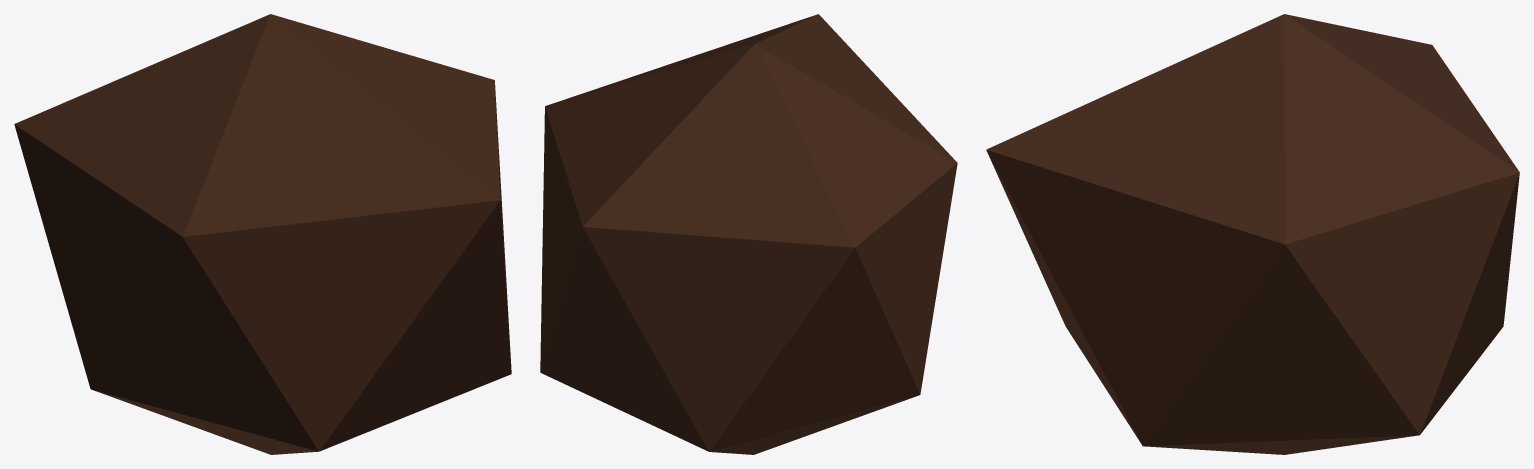
Rendered from FloatingRock3.fbx.
The picture shows the model from 3 angles, left to right: view 1: azimuth 30°, elevation 25°; view 2: azimuth 150°, elevation 25°; view 3: azimuth 270°, elevation 25°; orthographic projection. The views are drawn at different scales.
Visible parts, largest first — view 1: Icosphere; view 2: Icosphere; view 3: Icosphere.
Part boxes in pixels (x1,y1,x2,y2): Icosphere: (14, 14, 511, 454); Icosphere: (540, 14, 957, 454); Icosphere: (986, 14, 1519, 454).
Bounding box in the file's own units: 182 × 189 × 207.
